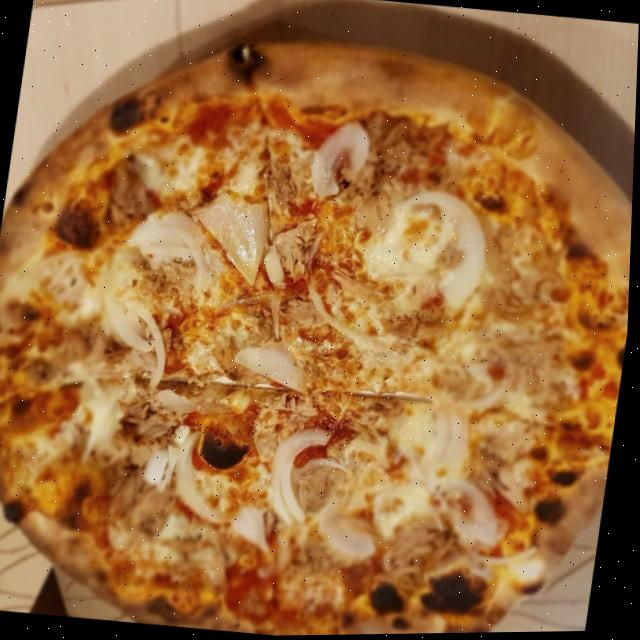pizza: (0, 1, 640, 640)
